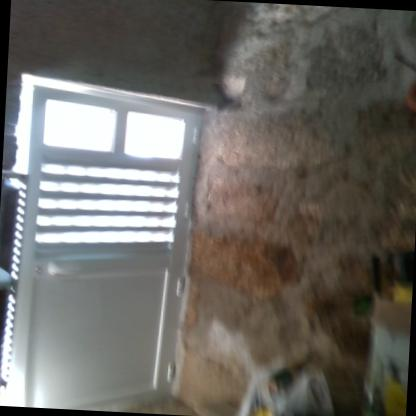closed: (4, 78, 218, 413)
